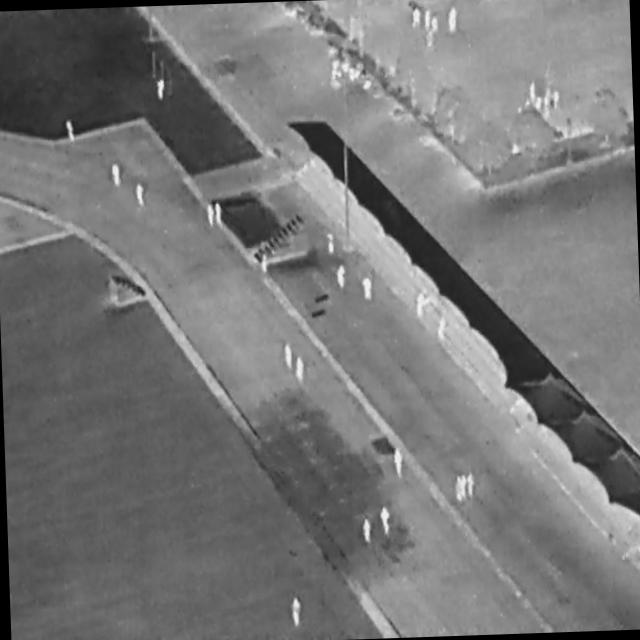person: (292, 598, 303, 627), (448, 6, 459, 34), (438, 315, 449, 343), (381, 507, 391, 537), (395, 449, 405, 478), (362, 519, 373, 545), (135, 185, 146, 209), (363, 277, 374, 301), (112, 164, 123, 187), (284, 345, 294, 370), (295, 357, 305, 382), (66, 121, 76, 145), (337, 265, 347, 289), (412, 8, 423, 29), (207, 205, 216, 229), (157, 79, 167, 100), (529, 80, 537, 106), (327, 233, 336, 256), (468, 473, 476, 498), (456, 477, 464, 502), (461, 476, 469, 500), (544, 90, 553, 111), (262, 253, 270, 276), (553, 90, 562, 110), (426, 31, 435, 49), (216, 202, 222, 227), (431, 16, 439, 34), (425, 10, 431, 33), (536, 97, 544, 112), (639, 541, 640, 571)
